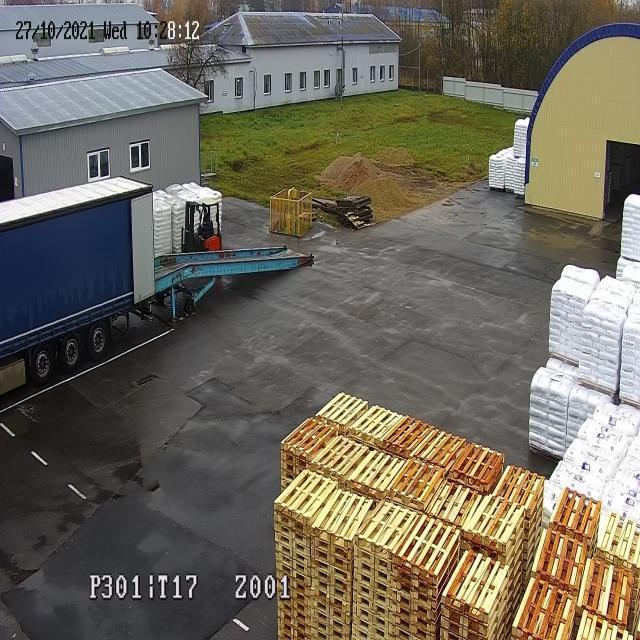forklift: (181, 193, 223, 254)
